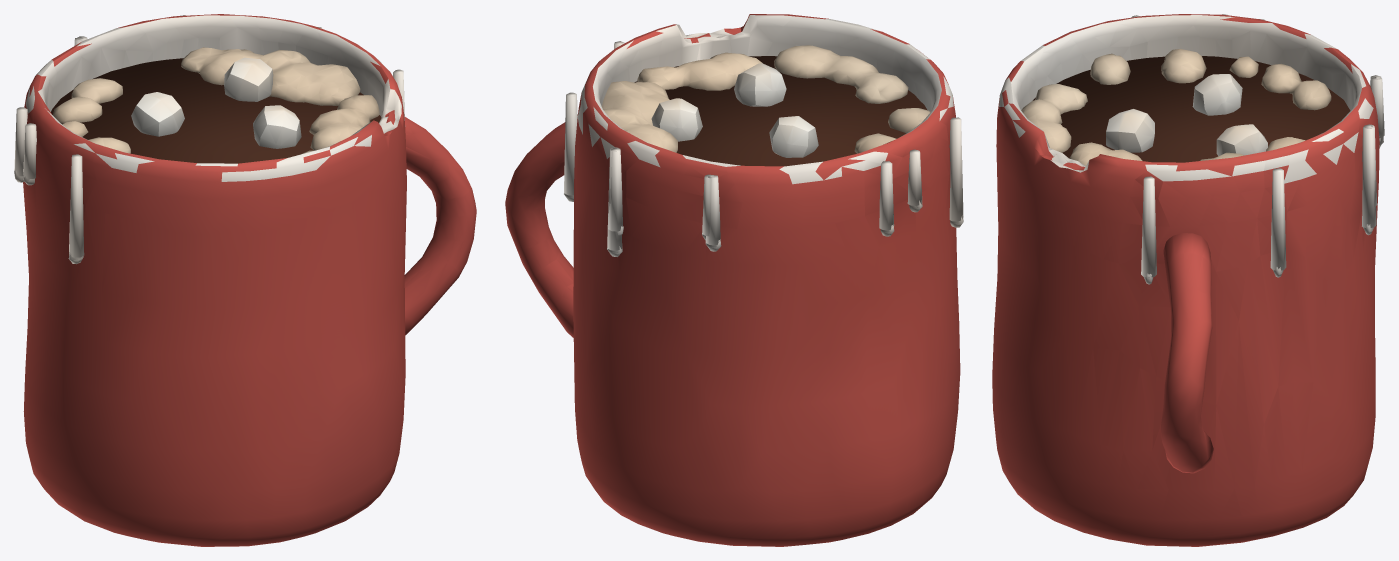
The model's file is frost_cocoa_mug_lod1.glb.
The picture shows the model from 3 angles, left to right: view 1: azimuth 30°, elevation 25°; view 2: azimuth 150°, elevation 25°; view 3: azimuth 270°, elevation 25°; orthographic projection.
Parts seen in each view (by area): view 1: frost_cocoa_mug.001, cocoa_surface.001; view 2: frost_cocoa_mug.001, cocoa_surface.001; view 3: frost_cocoa_mug.001, cocoa_surface.001.
Part boxes in pixels (left/top/right/bottom): frost_cocoa_mug.001: left=14, top=14, right=476, bottom=546; cocoa_surface.001: left=51, top=58, right=381, bottom=163; frost_cocoa_mug.001: left=505, top=14, right=963, bottom=546; cocoa_surface.001: left=634, top=56, right=927, bottom=166; frost_cocoa_mug.001: left=992, top=14, right=1384, bottom=546; cocoa_surface.001: left=1033, top=56, right=1350, bottom=162.
Size of the model in its own units: 34.03 by 30 by 26.74.
